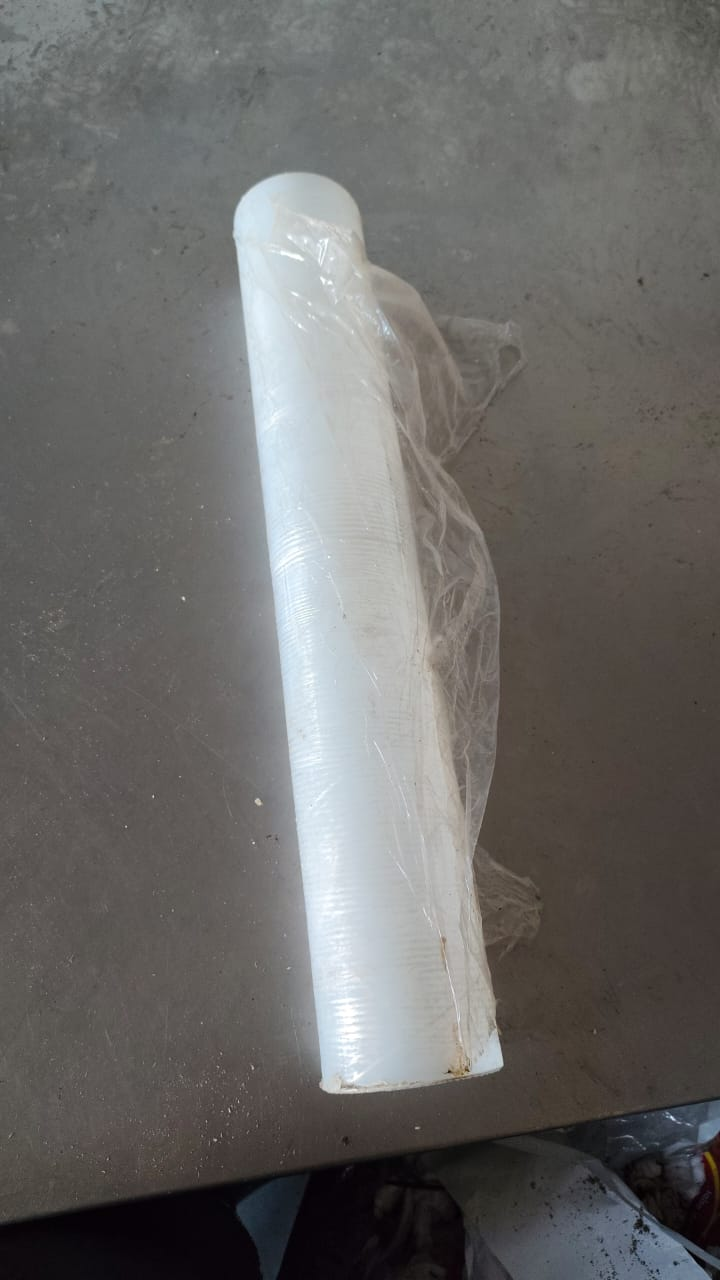Plastico: (230, 171, 521, 1101)
